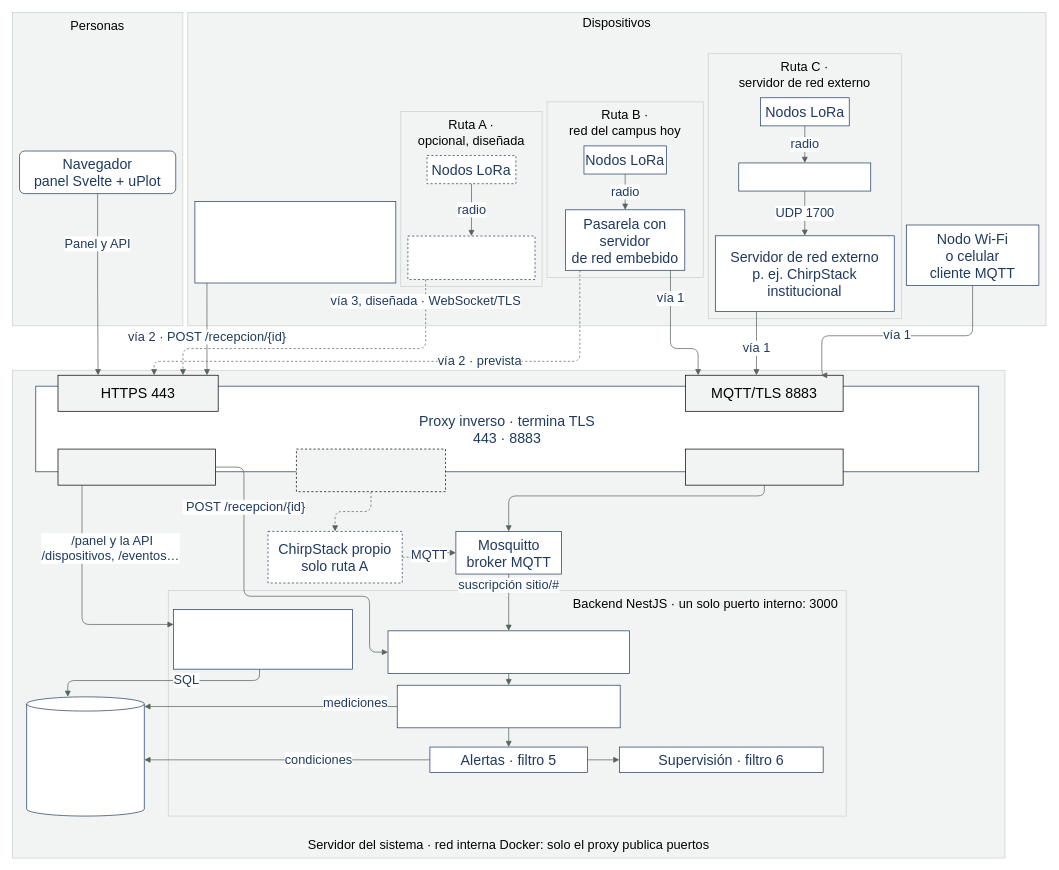
Some shapes in this 1059 by 870 pixel diagram are drawn without their labels. Each missing label, with the centre of its shape:
Equipo que solo habla HTTP nodo 4G o sistema de terceros: point 295,242
HTTP 3000: point 136,466
MQTT 1883: point 764,466
Normalización · filtros 3 y 4 pipeline de 6 filtros: point 508,706
Pasarela: point 804,176
Pasarela con Basics Station: point 471,257
Persistencia y consulta panel, API REST y SSE: point 263,639
Recepción · filtros 1 y 2 MQTT y POST /recepcion/{id}: point 508,651
TimescaleDB: point 85,756
WebSocket puente de pasarelas: point 371,470
